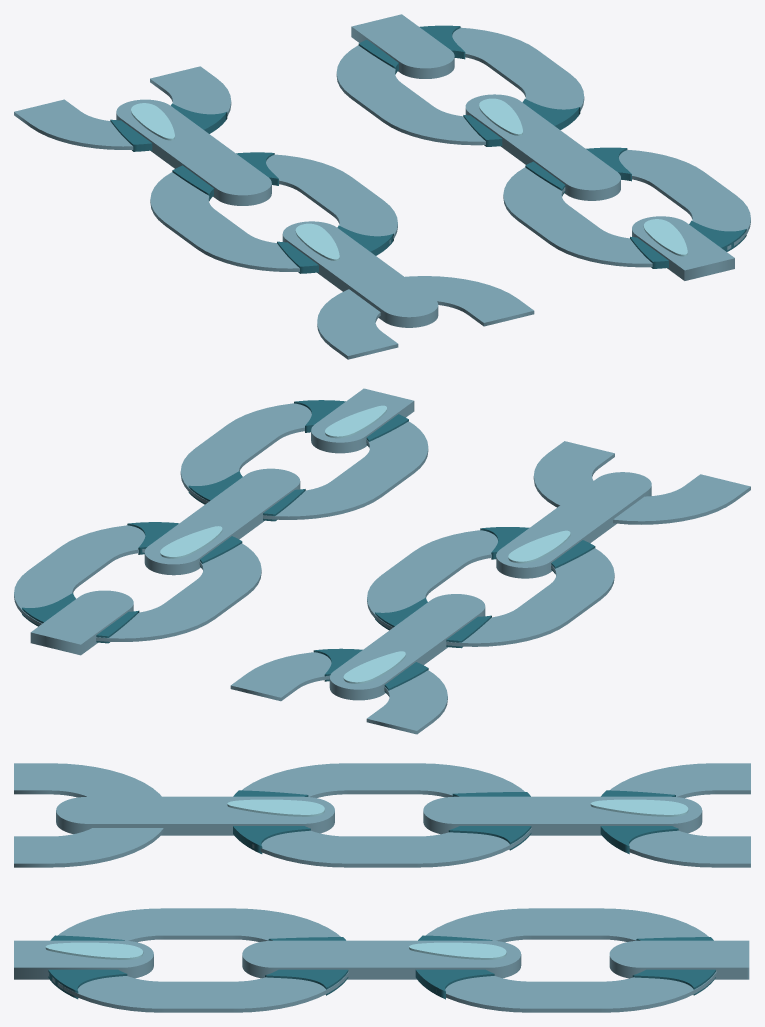
File: emoji_u26d3.glb
The picture shows the model from 3 angles, top to bottom: view 1: azimuth 30°, elevation 25°; view 2: azimuth 150°, elevation 25°; view 3: azimuth 270°, elevation 25°; orthographic projection. The views are drawn at different scales.
Parts seen in each view (by area): view 1: emoji_u26d3; view 2: emoji_u26d3; view 3: emoji_u26d3.
Boxes of the visible parts, x1=… form: emoji_u26d3: x1=14, y1=14, x2=750, y2=359; emoji_u26d3: x1=14, y1=388, x2=750, y2=734; emoji_u26d3: x1=14, y1=763, x2=750, y2=1012.
Size of the model in its own units: 0.0267 by 0.0008 by 0.0339.
